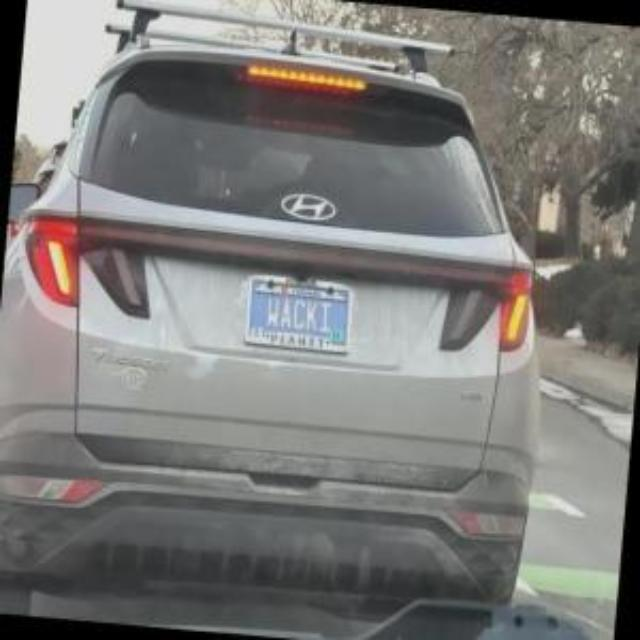License Plate: (244, 272, 354, 354)
